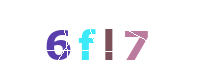6: (34, 0, 114, 80)
7: (84, 0, 164, 80)
F: (46, 0, 126, 80)
L: (60, 0, 140, 80)
